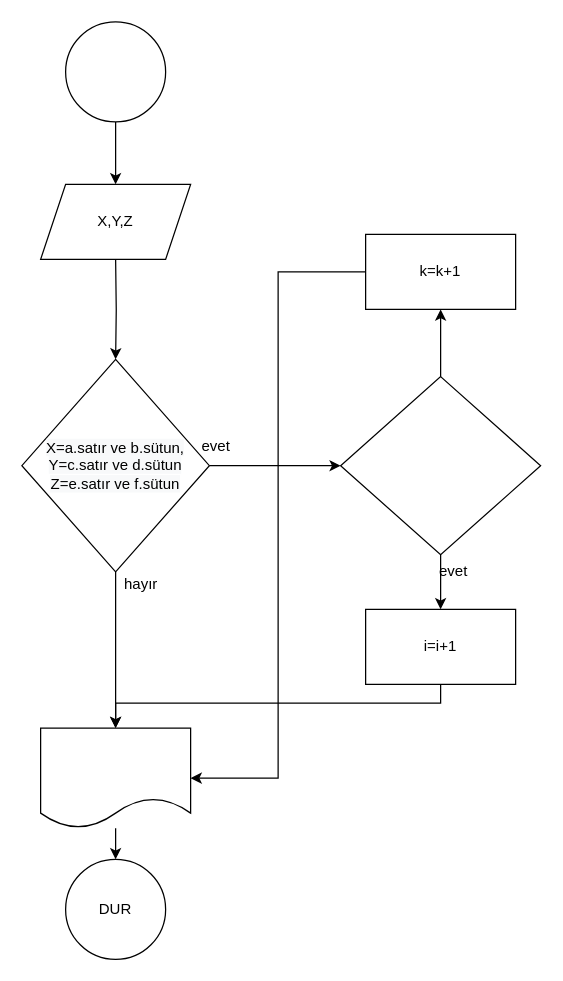
The diagram is 563 pixels wide and 981 high, and some of its shapes have lost their labels. Here are the shapes that lost their labels. From the top down, the box of each, then its label:
(64, 21, 166, 122): Başla
(339, 375, 541, 555): x%2=1,Z%2=1,Z%2=1
(39, 727, 191, 828): i/k
